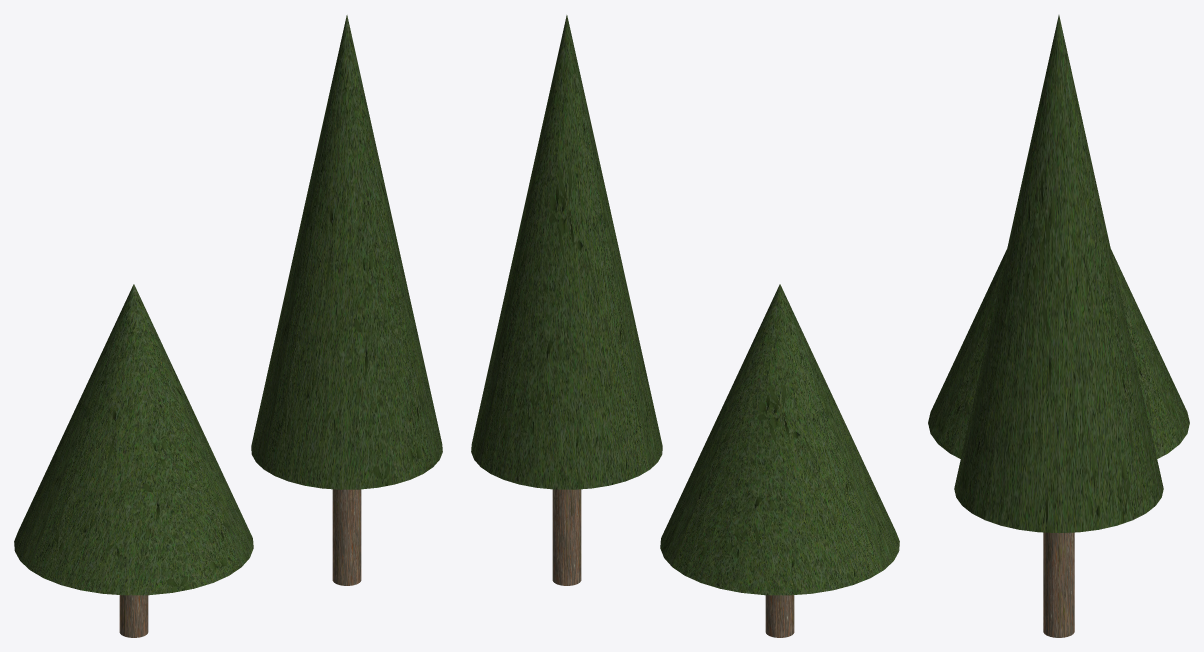
The model's file is pine-tree.glb.
3 views of the same model, side by side, from view 1: azimuth 30°, elevation 25°; view 2: azimuth 150°, elevation 25°; view 3: azimuth 270°, elevation 25° (orthographic). The views are drawn at different scales.
Visible parts, largest first — view 1: FOLIAGE 1, BARK 1; view 2: FOLIAGE 1, BARK 1; view 3: FOLIAGE 1, BARK 1.
Part boxes in pixels (bbox=[...]): FOLIAGE 1: bbox=[14, 15, 442, 595]; BARK 1: bbox=[119, 489, 361, 637]; FOLIAGE 1: bbox=[471, 15, 899, 595]; BARK 1: bbox=[552, 489, 794, 637]; FOLIAGE 1: bbox=[928, 15, 1189, 532]; BARK 1: bbox=[1043, 532, 1074, 637].
Size of the model in its own units: 9.62 by 13 by 5.
2 materials, 2 textured.
